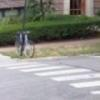bicycles: (14, 30, 35, 60)
